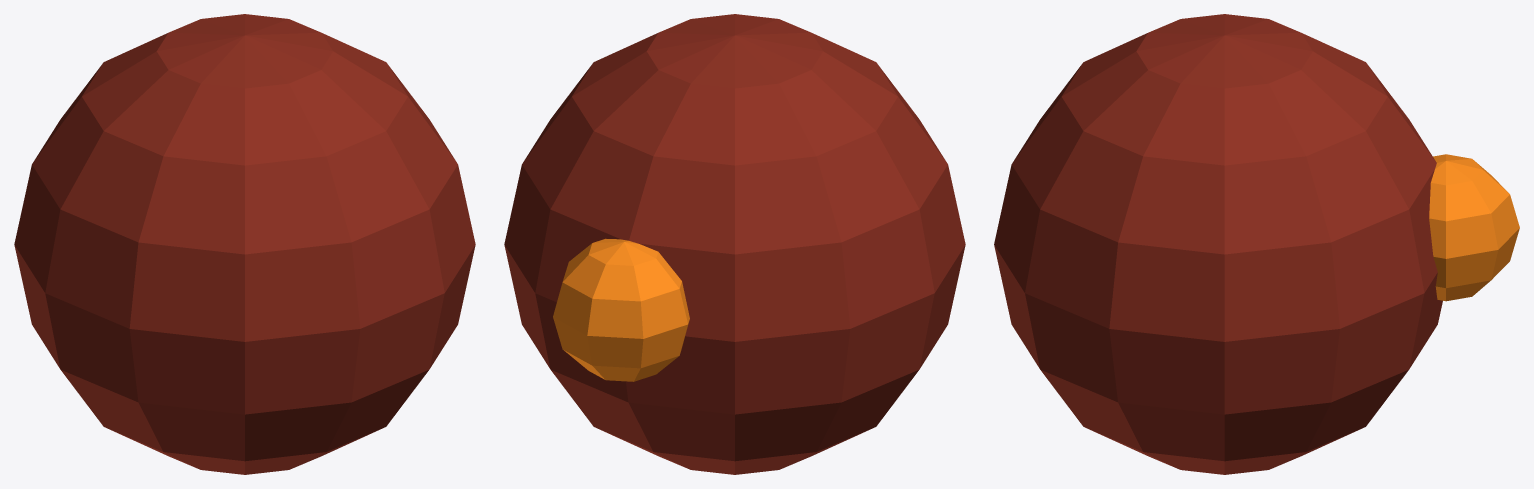
File: enemy_bomber.obj
3 views of the same model, side by side, from view 1: azimuth 30°, elevation 25°; view 2: azimuth 150°, elevation 25°; view 3: azimuth 270°, elevation 25° (orthographic).
Visible parts, largest first — view 1: shell; view 2: shell, core; view 3: shell, core.
Part boxes in pixels (<box>): shell: <box>14,14,475,474</box>; shell: <box>504,14,965,474</box>; core: <box>553,238,689,381</box>; shell: <box>994,14,1442,474</box>; core: <box>1429,154,1519,301</box>.
Size of the model in its own units: 0.5 by 0.5 by 0.57.
